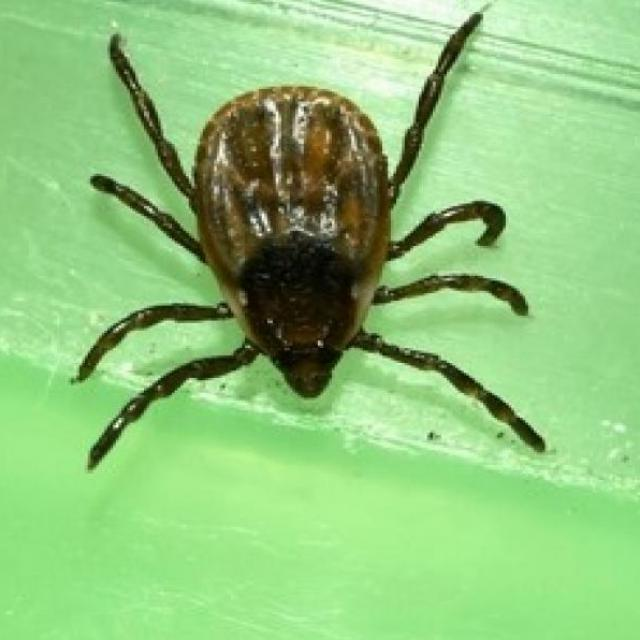Rhipicephalus Sanguineus-F: (74, 9, 548, 472)
